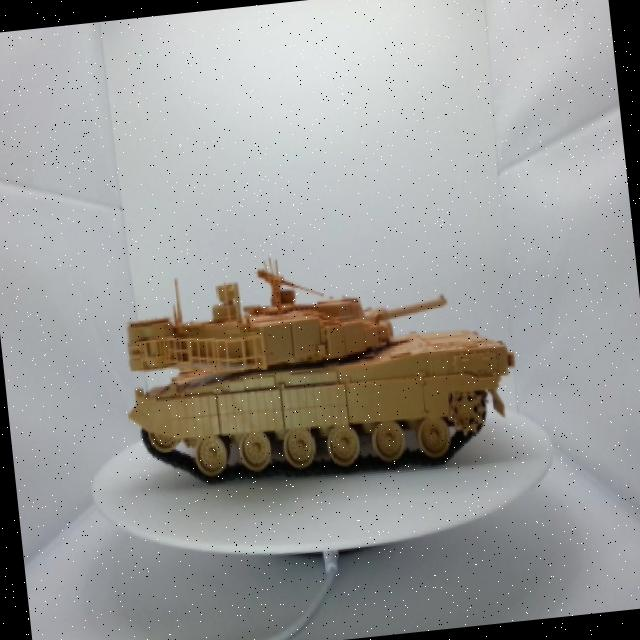korea tank: (98, 223, 548, 518)
